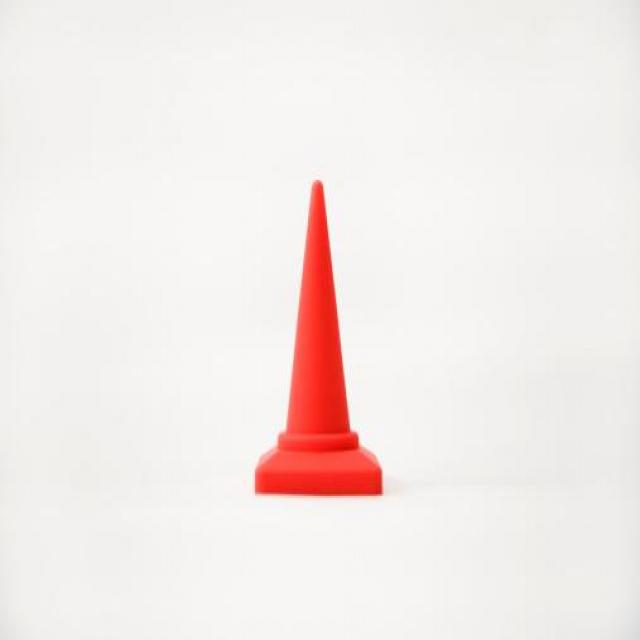Cone: (255, 180, 385, 496)
